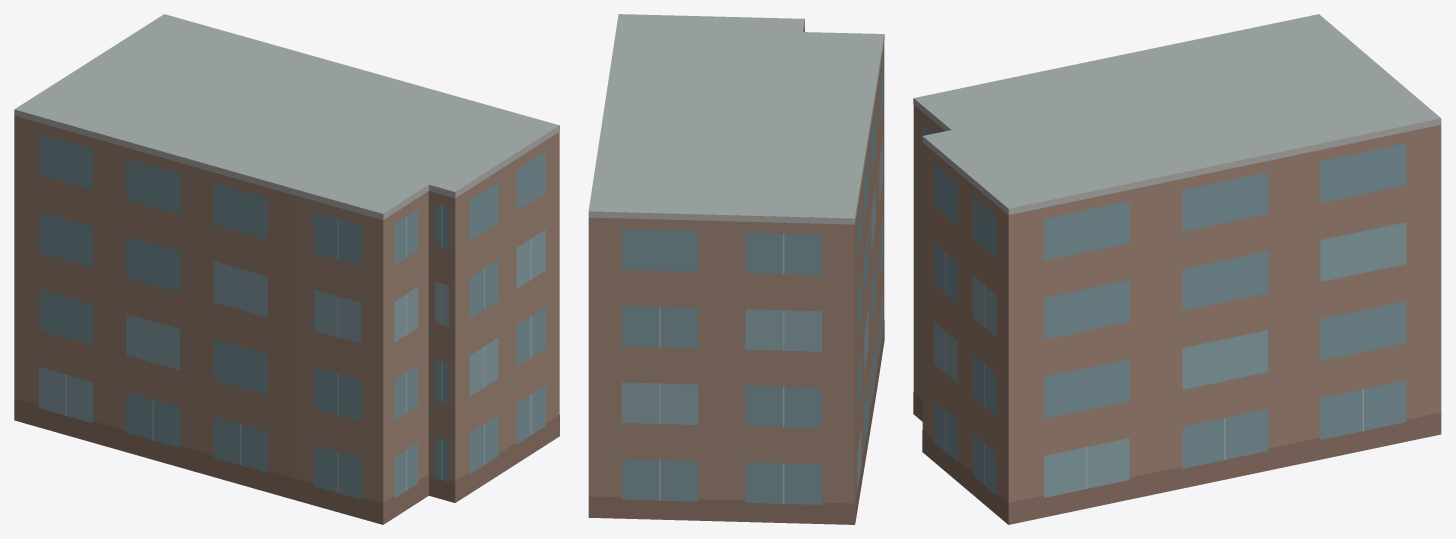
The model's file is survey-upis-32841252.glb.
3 views of the same model, side by side, from view 1: azimuth 30°, elevation 25°; view 2: azimuth 150°, elevation 25°; view 3: azimuth 270°, elevation 25° (orthographic). The views are drawn at different scales.
Visible parts, largest first — view 1: survey-upis-32841252.tmp; view 2: survey-upis-32841252.tmp; view 3: survey-upis-32841252.tmp.
Boxes of the visible parts, x1,y1,x2,y2 form: survey-upis-32841252.tmp: (14, 14, 559, 524); survey-upis-32841252.tmp: (588, 14, 884, 524); survey-upis-32841252.tmp: (913, 14, 1441, 524).
Bounding box in the file's own units: 16.14 × 12.2 × 18.47.
